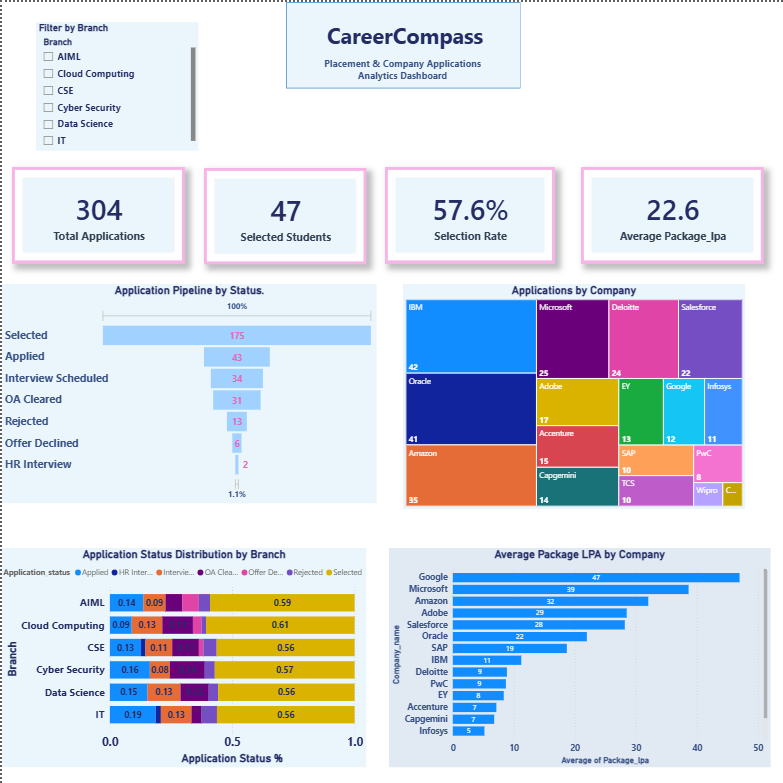

What the dashboard file says about the page in this screenshot:
{"tool":"powerbi","page":{"name":"Placement & Company Applications Analytics","canvas":[1350,1350],"ordinal":5},"visuals":[{"type":"shape","box":[488.9,0,404.4,148.9],"z":0},{"type":"cardVisual","fields":{"Data":["CountNonNull(career_compass company_applications.Application_id)"]},"box":[16.7,285,298.3,166.7],"z":1000},{"type":"cardVisual","fields":{"Data":["LeetCode Difficulty.Selection Rate"]},"box":[660,285,293.3,166.7],"z":2000},{"type":"cardVisual","fields":{"Data":["LeetCode Difficulty.Selected Students"]},"box":[348,286,280,166],"z":3000},{"type":"cardVisual","fields":{"Data":["Avg(career_compass company_applications.Package_lpa)"]},"box":[998.3,285,315,166.7],"z":4000},{"type":"textbox","box":[555.6,28.3,362.6,144.4],"z":5000},{"type":"textbox","box":[533.3,89.9,316.2,105.1],"z":6000},{"type":"slicer","title":"Filter by Branch","fields":{"Values":["career_compass students.Branch"]},"box":[58.3,35,280,221.7],"z":7000},{"type":"funnel","title":"Application Pipeline by Status.","fields":{"Category":["career_compass company_applications.Application_status"],"Y":["CountNonNull(career_compass company_applications.Application_id)"]},"box":[0,486,646,378],"z":8000},{"type":"barChart","title":"Application Status Distribution by Branch","fields":{"Category":["career_compass students.Branch"],"Series":["career_compass company_applications.Application_status"],"Y":["LeetCode Difficulty.Application Status %"]},"box":[0,942,628,378],"z":9000},{"type":"treemap","title":"Applications by Company","fields":{"Group":["career_compass company_applications.Company_name"],"Values":["CountNonNull(career_compass company_applications.Application_id)"]},"box":[692,486,590,388],"z":10000},{"type":"clusteredBarChart","title":"Average Package LPA by Company","fields":{"Category":["career_compass company_applications.Company_name"],"Y":["Avg(career_compass company_applications.Package_lpa)"]},"box":[668,942,658,378],"z":11000}]}

Visuals, with their boxes in screenshot pixels (x1, y1, x2, y2), scaled from the page's 1350x1350 canvas onto the 783x783 screenshot:
shape: 284 0 518 86
cardVisual - CountNonNull(career_compass company_applications.Application_id): 10 165 183 262
cardVisual - LeetCode Difficulty.Selection Rate: 383 165 553 262
cardVisual - LeetCode Difficulty.Selected Students: 202 166 364 262
cardVisual - Avg(career_compass company_applications.Package_lpa): 579 165 762 262
textbox: 322 16 533 100
textbox: 309 52 493 113
"Filter by Branch" slicer: 34 20 196 149
"Application Pipeline by Status." funnel: 0 282 375 501
"Application Status Distribution by Branch" barChart: 0 546 364 766
"Applications by Company" treemap: 401 282 744 507
"Average Package LPA by Company" clusteredBarChart: 387 546 769 766
